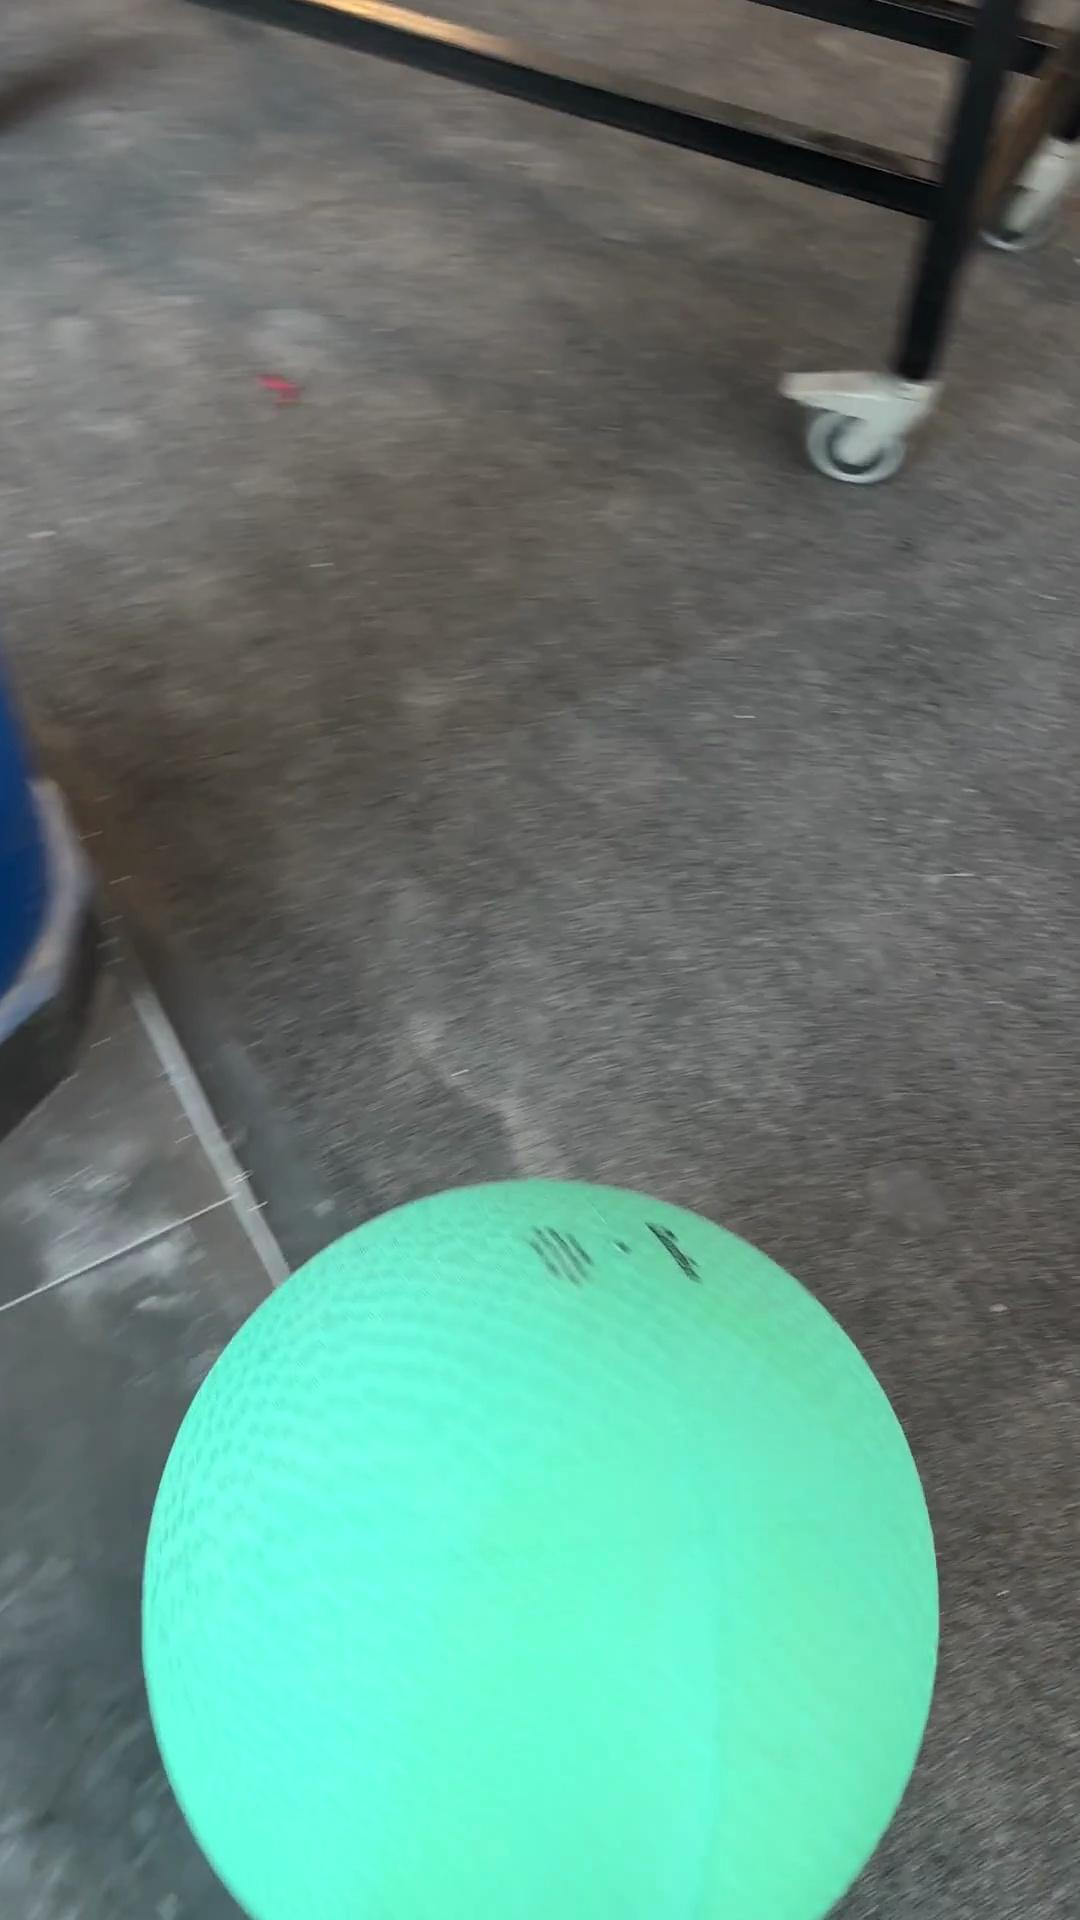ALGAE: (137, 1174, 942, 1916)
